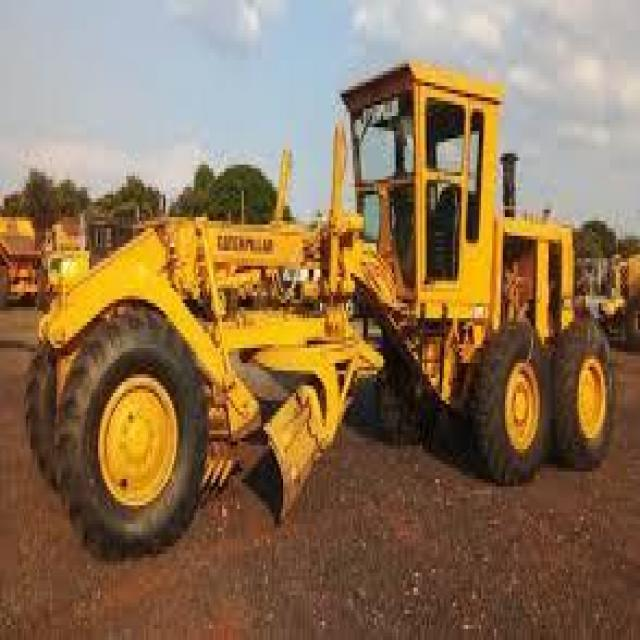Grader: (31, 45, 634, 573)
